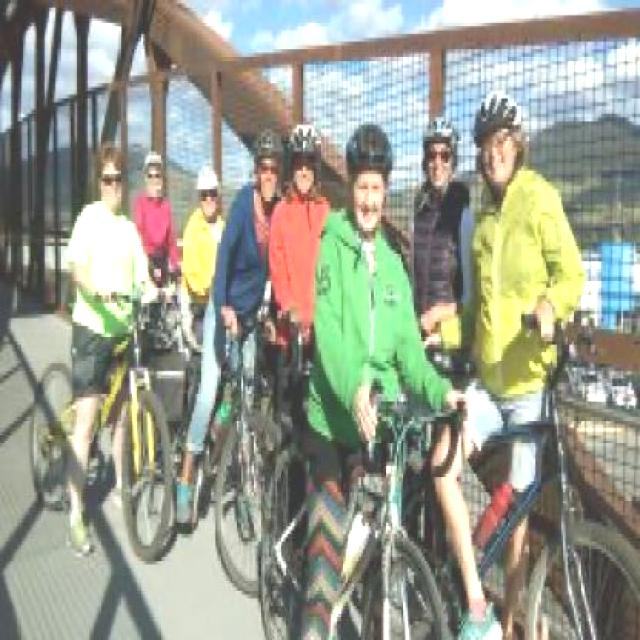With Helmet: (340, 113, 392, 232), (472, 88, 526, 198), (417, 106, 460, 189), (286, 114, 319, 197), (252, 116, 280, 204), (189, 156, 220, 216), (143, 148, 168, 205)
Without Helmet: (92, 137, 126, 209)
